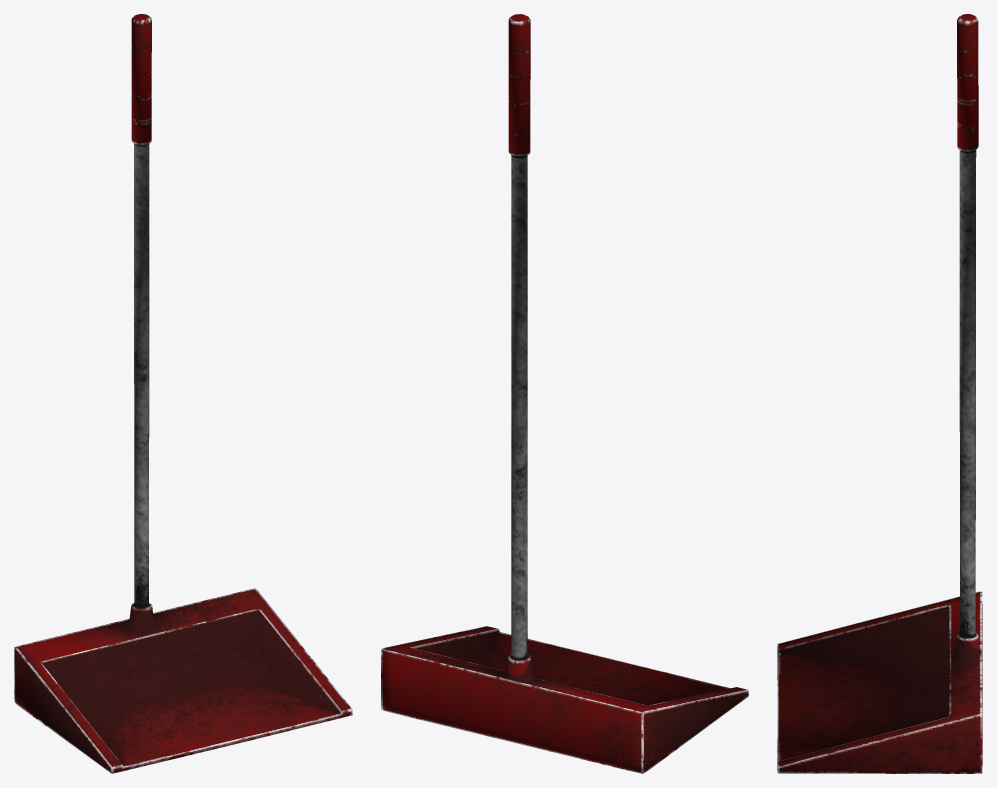
Rendered from Dustpan1.fbx.
3 views of the same model, side by side, from view 1: azimuth 30°, elevation 25°; view 2: azimuth 150°, elevation 25°; view 3: azimuth 270°, elevation 25° (orthographic). The views are drawn at different scales.
Visible parts, largest first — view 1: R_Dustpan; view 2: R_Dustpan; view 3: R_Dustpan.
Part boxes in pixels (box(x1,y1,x2,y2)): R_Dustpan: box(14, 14, 352, 773); R_Dustpan: box(381, 14, 748, 773); R_Dustpan: box(777, 14, 982, 773).
Bounding box in the file's own units: 60.53 × 159 × 42.48.
Materials: 1 (1 with a texture image).
